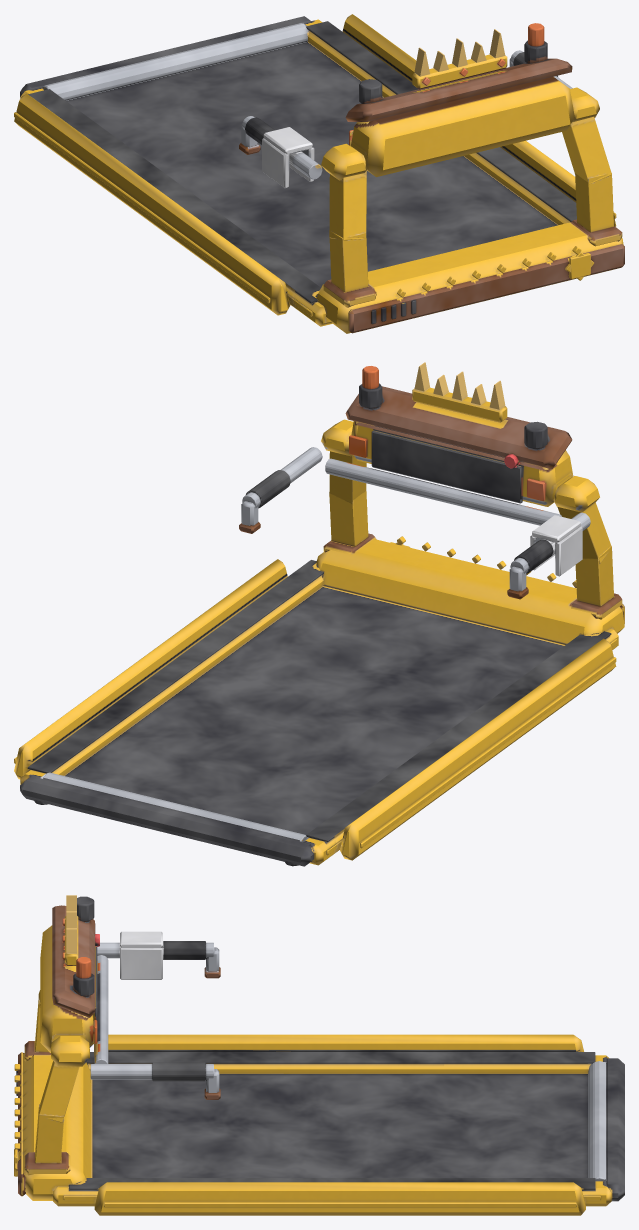
Rendered from Treadmill_Or_Rig.fbx.
3 renders of one model, top to bottom at view 1: azimuth 30°, elevation 25°; view 2: azimuth 150°, elevation 25°; view 3: azimuth 270°, elevation 25°, orthographic. The views are drawn at different scales.
Visible parts, largest first — view 1: Frame, Console, Decor; view 2: Frame, Console, Decor; view 3: Frame, Decor, Console.
Part boxes in pixels (x1,y1,x2,y2): Frame: [20, 16, 624, 333]; Console: [239, 23, 622, 307]; Decor: [14, 14, 616, 315]; Frame: [20, 538, 624, 866]; Console: [239, 366, 622, 619]; Decor: [14, 362, 616, 860]; Frame: [14, 1052, 624, 1206]; Decor: [14, 895, 585, 1215]; Console: [24, 896, 220, 1175].
Bounding box in the file's own units: 8.92 × 6 × 14.6.
Materials: 1 (1 with a texture image).
